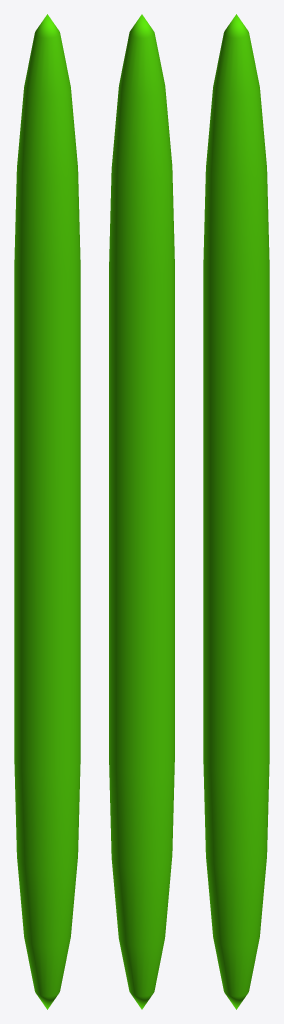
The model's file is laser_green.fbx.
3 views of the same model, side by side, from view 1: azimuth 90°, elevation 25°; view 2: azimuth 150°, elevation 25°; view 3: azimuth 270°, elevation 25° (orthographic).
Parts seen in each view (by area): view 1: laser_green; view 2: laser_green; view 3: laser_green.
Part boxes in pixels (x1,y1,x2,y2): laser_green: (14, 14, 80, 1009); laser_green: (109, 14, 174, 1009); laser_green: (203, 14, 269, 1009).
Bounding box in the file's own units: 0.2408 × 4 × 0.2408.
